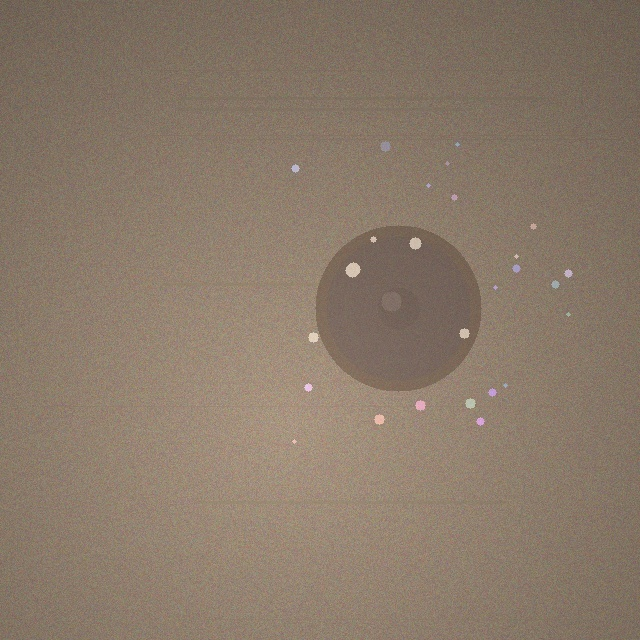overburn: (315, 225, 481, 391)
